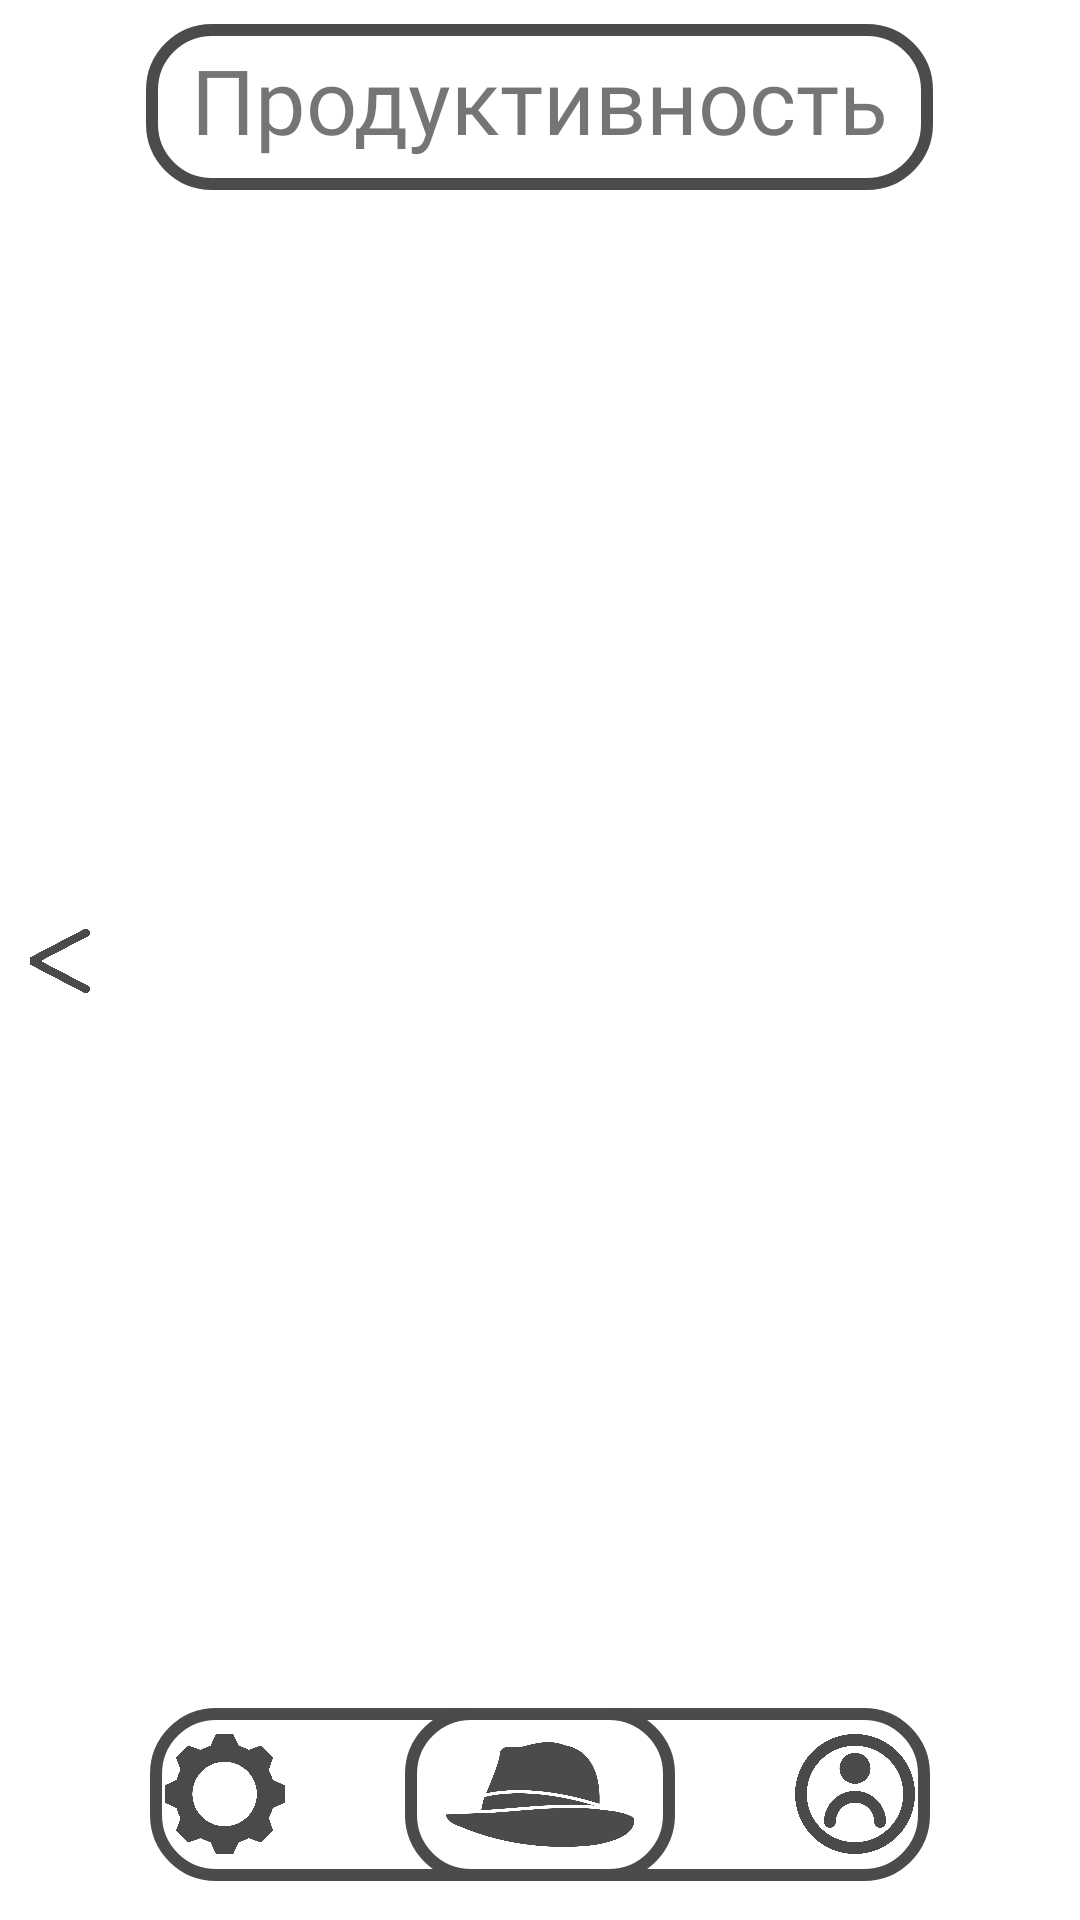

Icon click points for this 1080x1920 phone screenshot, format (x,y):
arrow: (60,961)
imgbtnoprofile: (855,1794)
options: (225,1794)
